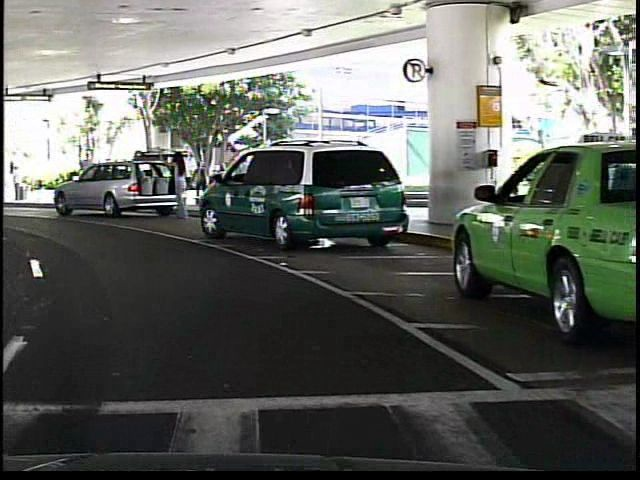person: (168, 145, 187, 226), (183, 155, 205, 213), (71, 149, 95, 201)
